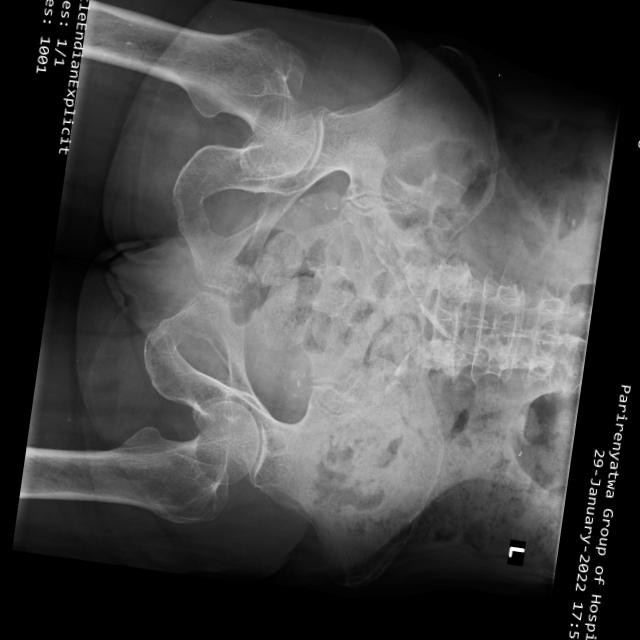normal-left: (19, 401, 259, 523)
normal-right: (109, 7, 316, 179)
